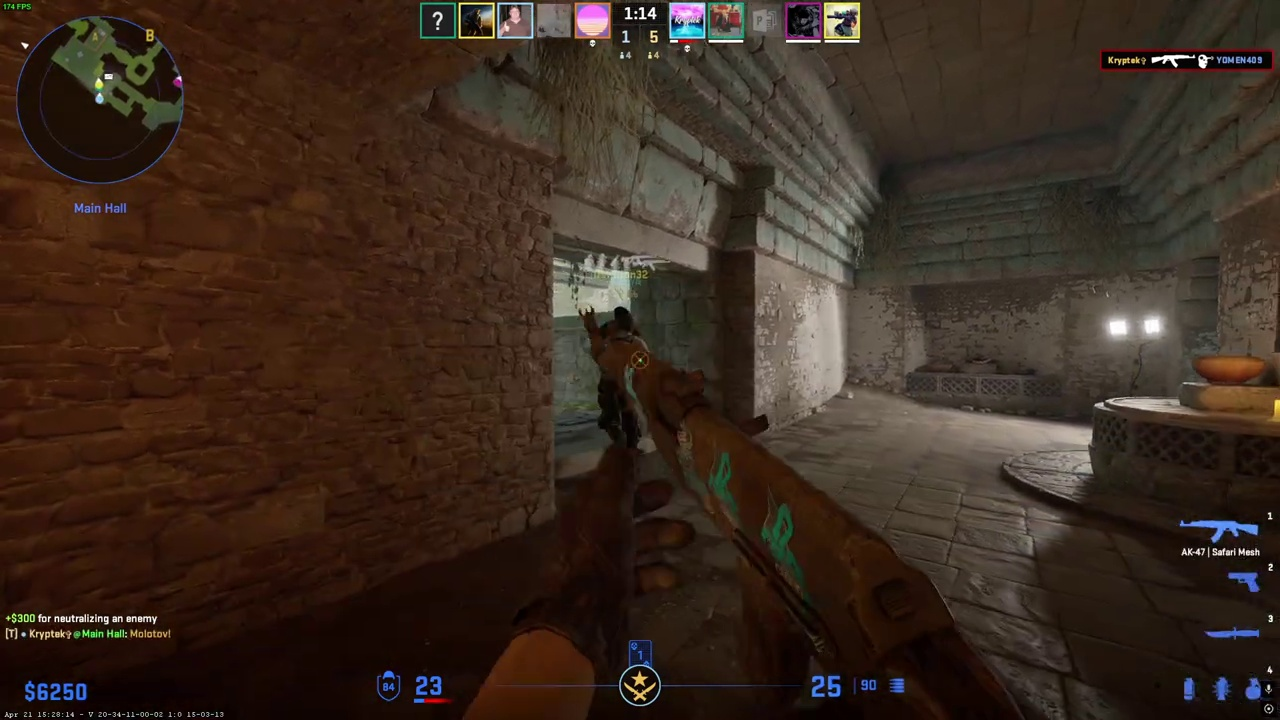Terrorist: (593, 306, 649, 453)
